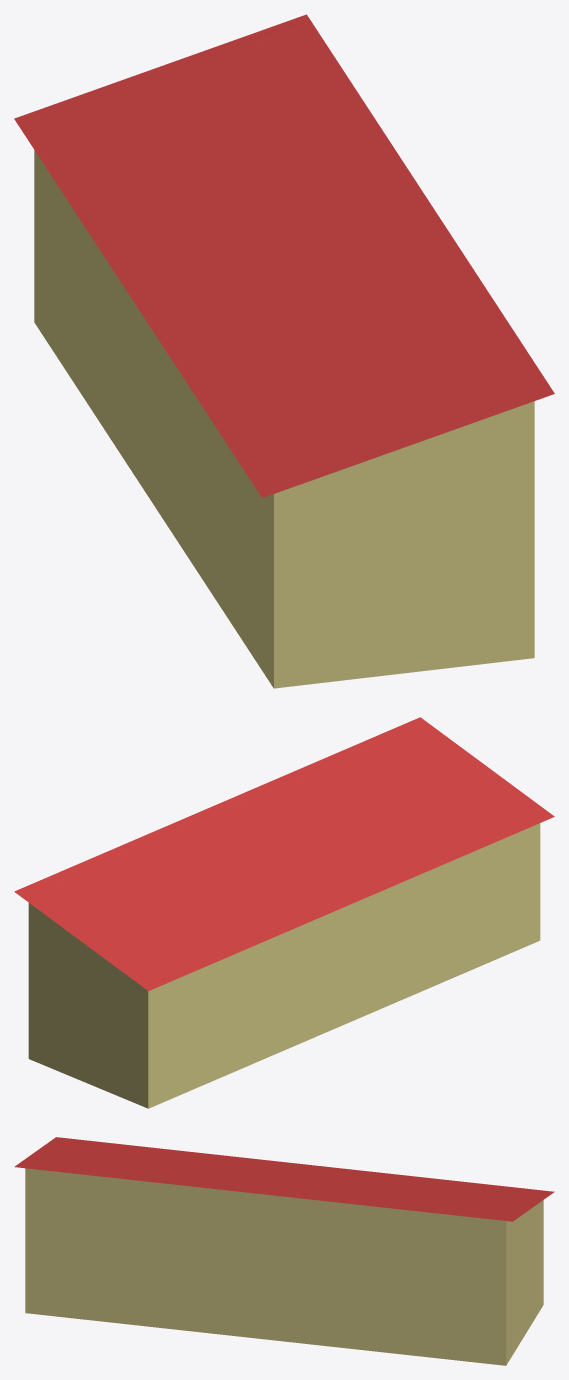
The picture shows the model from 3 angles, top to bottom: view 1: azimuth 30°, elevation 25°; view 2: azimuth 150°, elevation 25°; view 3: azimuth 270°, elevation 25°; orthographic projection. The views are drawn at different scales.
Bounding box in the file's own units: 15.86 × 29.38 × 8.92.
